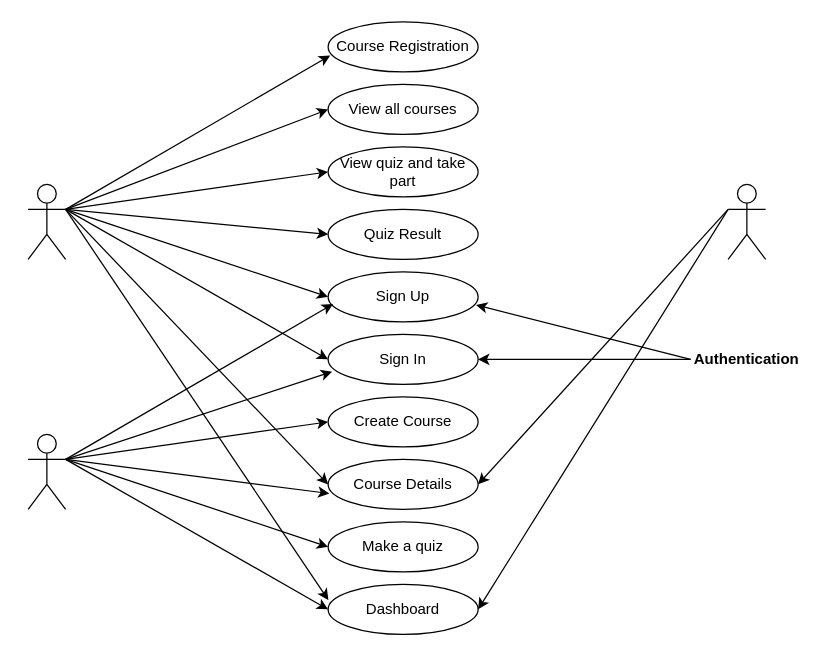
This 821x656 diagram has some shape labels left out. The centre of each missing label's shape, as x and y in pixels:
"Admin" belongs at point 746,221.
"Creator" belongs at point 46,471.
"Student" belongs at point 46,221.
